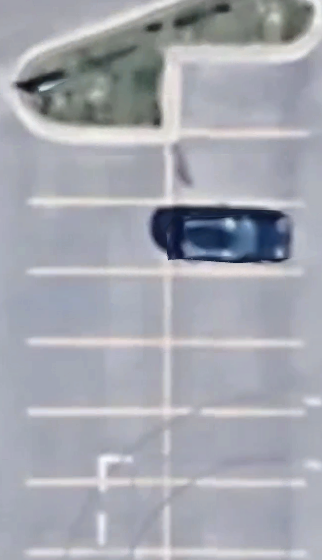Occupied: (171, 202, 303, 274)
Vacant: (170, 48, 307, 133), (23, 481, 168, 555), (25, 131, 171, 202), (27, 411, 168, 484), (168, 131, 305, 205), (28, 202, 172, 272), (168, 411, 305, 484), (168, 481, 305, 553), (28, 340, 166, 411), (168, 342, 303, 413), (169, 272, 302, 344), (28, 275, 167, 342)
